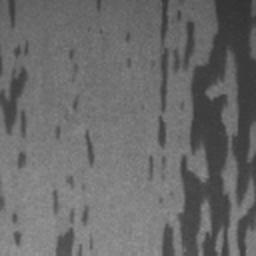Red iron sheet: (148, 0, 256, 256), (0, 0, 31, 168), (51, 173, 90, 256), (54, 93, 96, 165), (0, 196, 22, 247), (69, 49, 78, 70), (95, 0, 104, 12), (125, 56, 133, 68), (124, 31, 132, 42)
